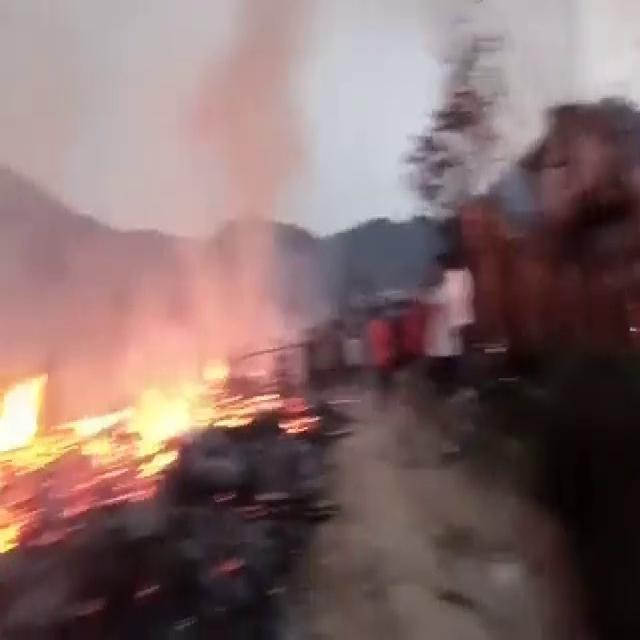Fire: (0, 376, 265, 511), (0, 376, 46, 455), (0, 513, 34, 562)
